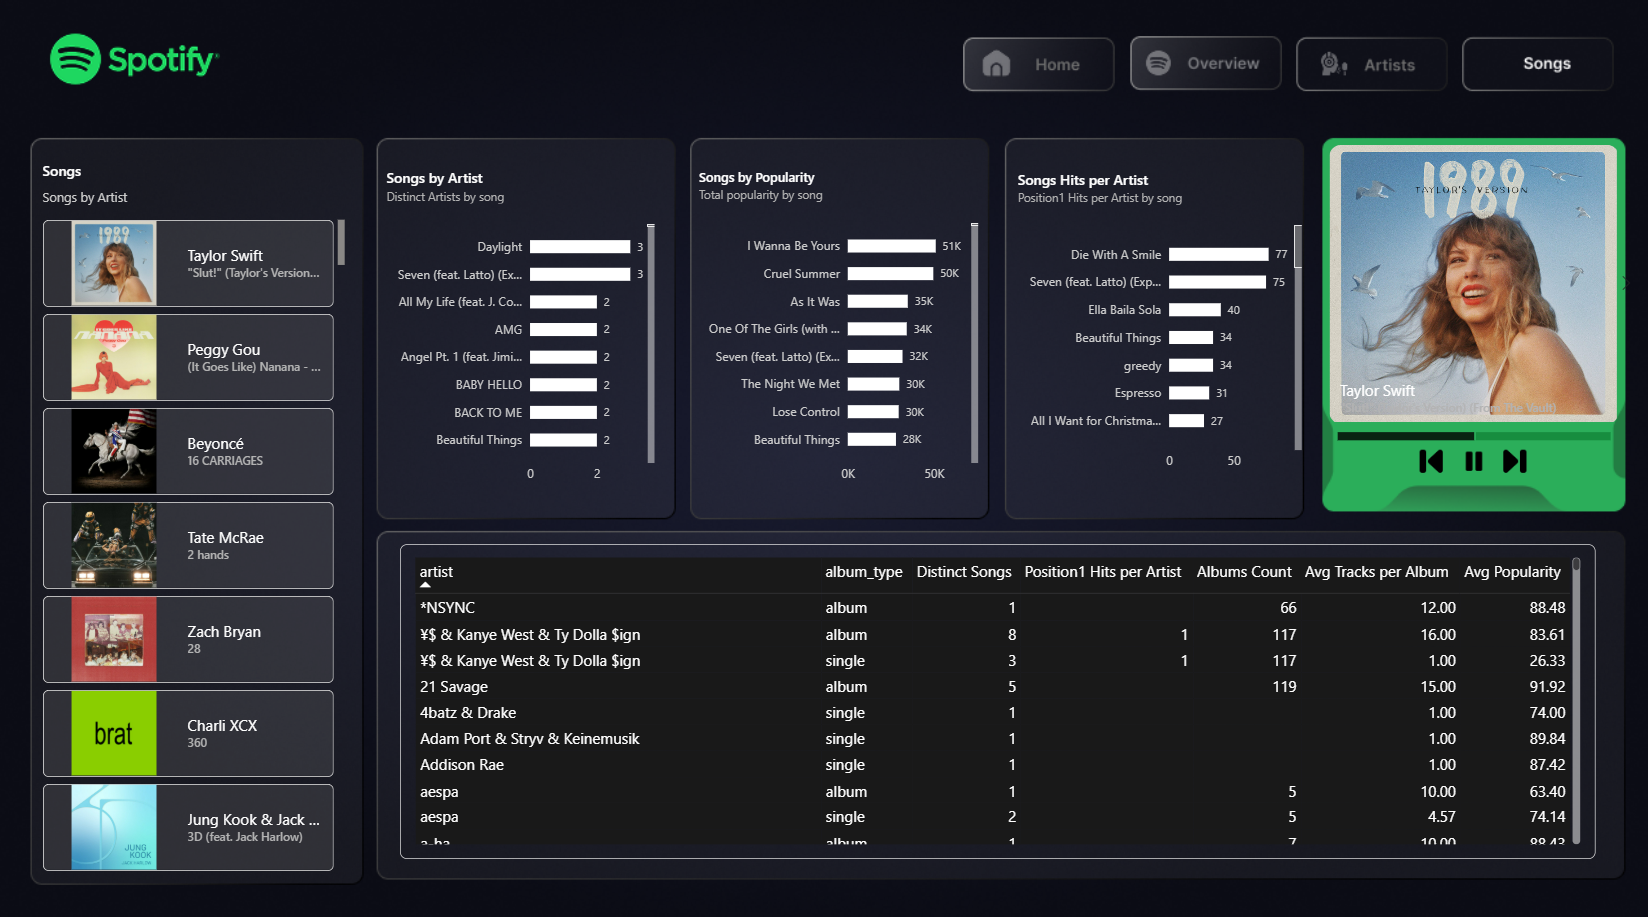

The page's visual inventory and layout, read from the dashboard file:
{"tool":"powerbi","page":{"name":"Songs","canvas":[1920,1080],"ordinal":3},"visuals":[{"type":"actionButton","box":[1119.5,50.3,171.9,56.1],"z":0},{"type":"actionButton","box":[1311.3,50.3,171.9,56.1],"z":1000},{"type":"actionButton","box":[1503.1,50.3,171.9,56.1],"z":2000},{"type":"actionButton","box":[1693.1,50.3,171.9,56.1],"z":3000},{"type":"advancedSlicerVisual","title":"Songs","fields":{"Label":["Min(Top-50-world.album_cover_url)"],"Values":["Top-50-world.song"]},"box":[1518.3,173.7,372.8,320.3],"z":4000},{"type":"hundredPercentStackedBarChart","fields":{"Y":["_Measures.Avg Popularity","Avg(Top-50-world.popularity)"]},"box":[1532.4,450.6,345.6,112.2],"z":5000},{"type":"image","box":[1680.8,512.1,50.7,50.7],"z":6000},{"type":"image","box":[1635.6,523,39.8,30.8],"z":7000},{"type":"image","box":[1731.5,523,39.8,30.8],"z":8000},{"type":"advancedSlicerVisual","title":"Songs","fields":{"Label":["Min(Top-50-world.album_cover_url)"],"Values":["Top-50-world.song"]},"box":[59.7,191.8,347.5,819.8],"z":9000},{"type":"tableEx","fields":{"Values":["Top-50-world.artist","Top-50-world.album_type","_Measures.Distinct Songs","_Measures.Position1 Hits per Artist","_Measures.Albums Count","_Measures.Avg Tracks per Album","_Measures.Avg Popularity"]},"box":[470.5,633.4,1373.5,361.9],"z":10000},{"type":"clusteredBarChart","title":"Songs by Popularity","fields":{"Category":["Top-50-world.song"],"Y":["Sum(Top-50-world.popularity)"]},"box":[798.1,186.4,352.9,396.3],"z":11000},{"type":"clusteredBarChart","title":"Songs Hits per Artist","fields":{"Category":["Top-50-world.song"],"Y":["_Measures.Position1 Hits per Artist"]},"box":[1165.4,188.2,358.3,380],"z":12000},{"type":"clusteredBarChart","title":"Songs by Artist","fields":{"Category":["Top-50-world.song"],"Y":["_Measures.Distinct Artists"]},"box":[439.7,186.4,340.2,396.3],"z":13000}]}

Visuals, with their boxes in screenshot pixels (x1, y1, x2, y2), scaled from the page's 1920x1080 canvas onto the 1648x917 screenshot:
actionButton: detection(961, 43, 1108, 90)
actionButton: detection(1126, 43, 1273, 90)
actionButton: detection(1290, 43, 1438, 90)
actionButton: detection(1453, 43, 1601, 90)
"Songs" advancedSlicerVisual: detection(1303, 147, 1623, 419)
hundredPercentStackedBarChart - _Measures.Avg Popularity x Avg(Top-50-world.popularity): detection(1315, 383, 1612, 478)
image: detection(1443, 435, 1486, 478)
image: detection(1404, 444, 1438, 470)
image: detection(1486, 444, 1520, 470)
"Songs" advancedSlicerVisual: detection(51, 163, 350, 859)
tableEx - Top-50-world.artist x Top-50-world.album_type: detection(404, 538, 1583, 845)
"Songs by Popularity" clusteredBarChart: detection(685, 158, 988, 495)
"Songs Hits per Artist" clusteredBarChart: detection(1000, 160, 1308, 482)
"Songs by Artist" clusteredBarChart: detection(377, 158, 669, 495)
